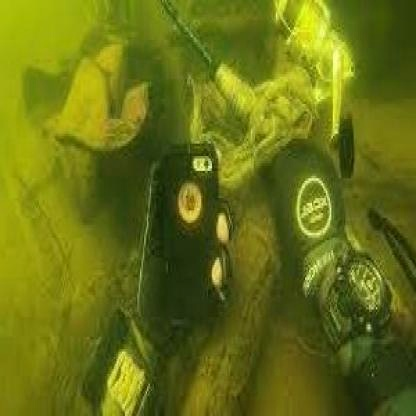cellphone: (158, 142, 216, 324)
